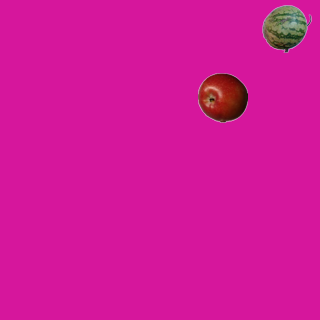Apple Braeburn: (197, 72, 247, 122)
Watermelon: (261, 3, 311, 53)
